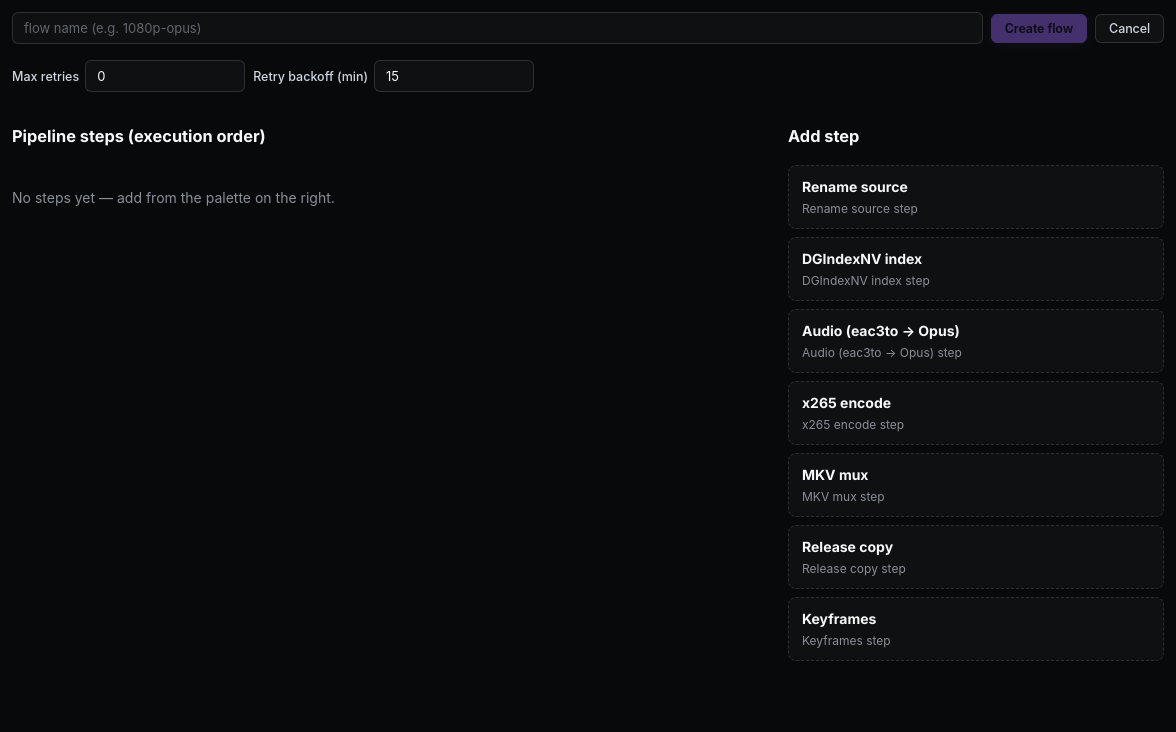
Test: FlowBuilder › blocks save when max retries exceeds 10
In the field with placeholder "flow name (e.g. 1080p-opus)": [497, 28] box [12,12,983,44], type "bad"
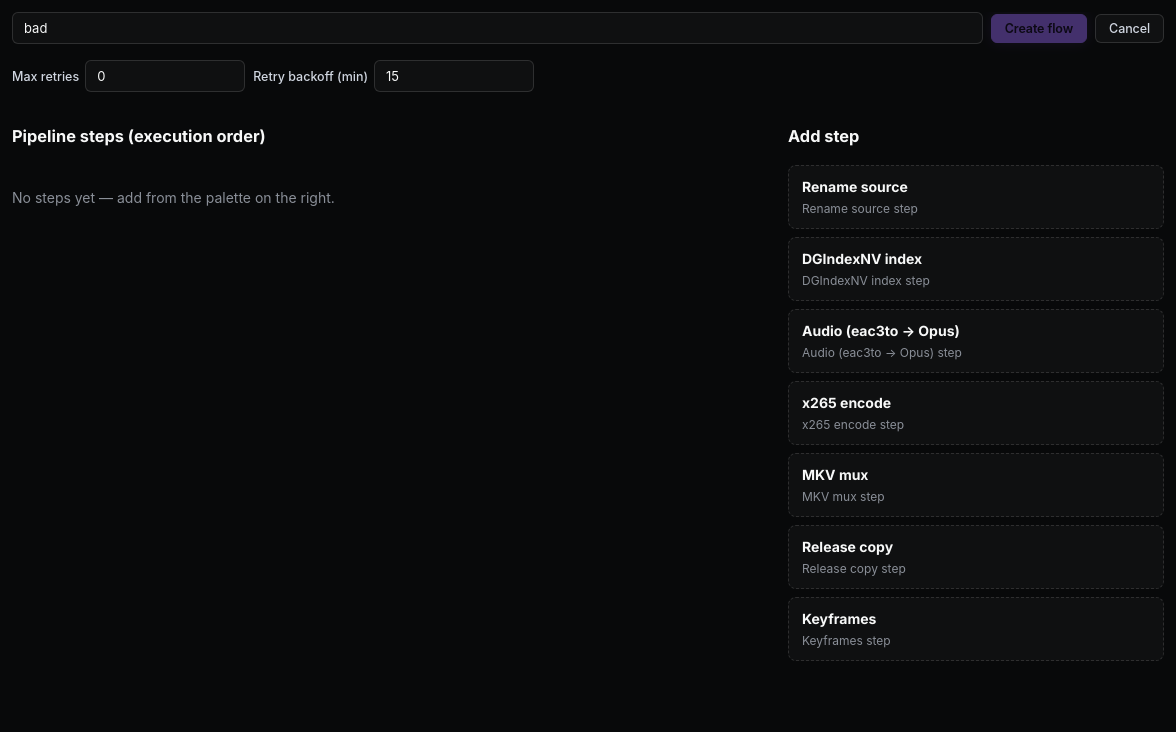
Click the text "DGIndexNV index": [862, 259] box [802,250,922,267]
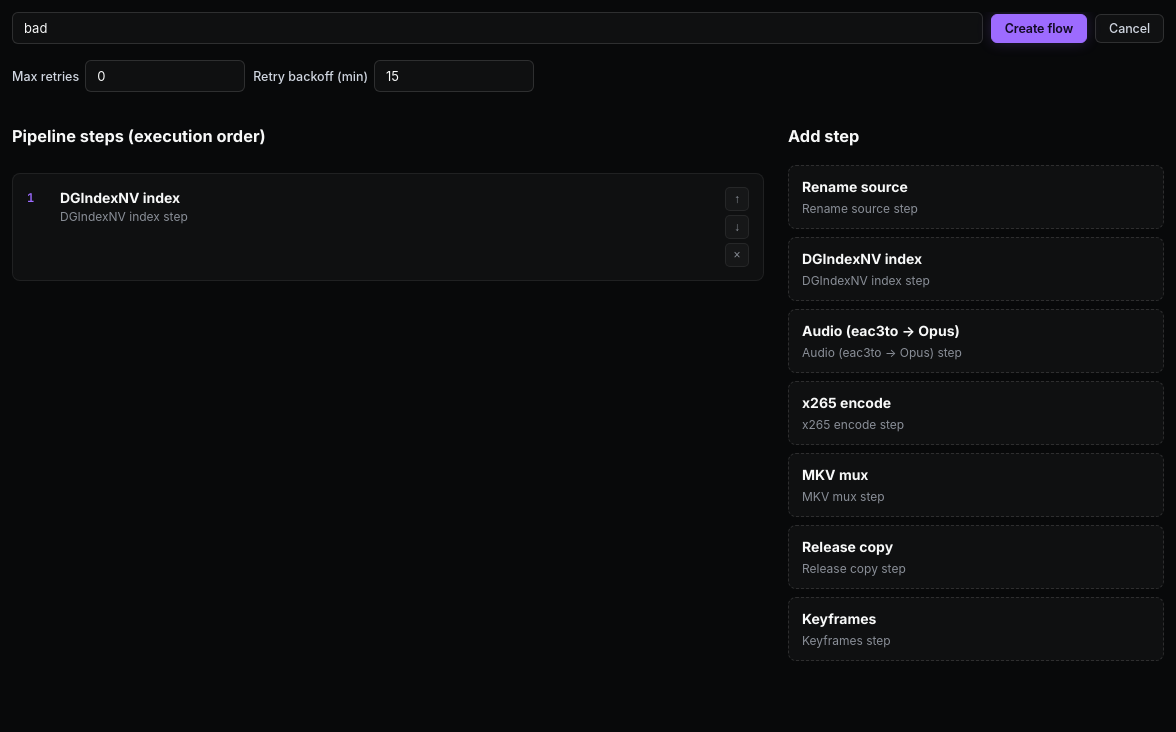
Replace the text in the number field labelled "Max retries" with "11": [165, 76] box [85,60,245,92]
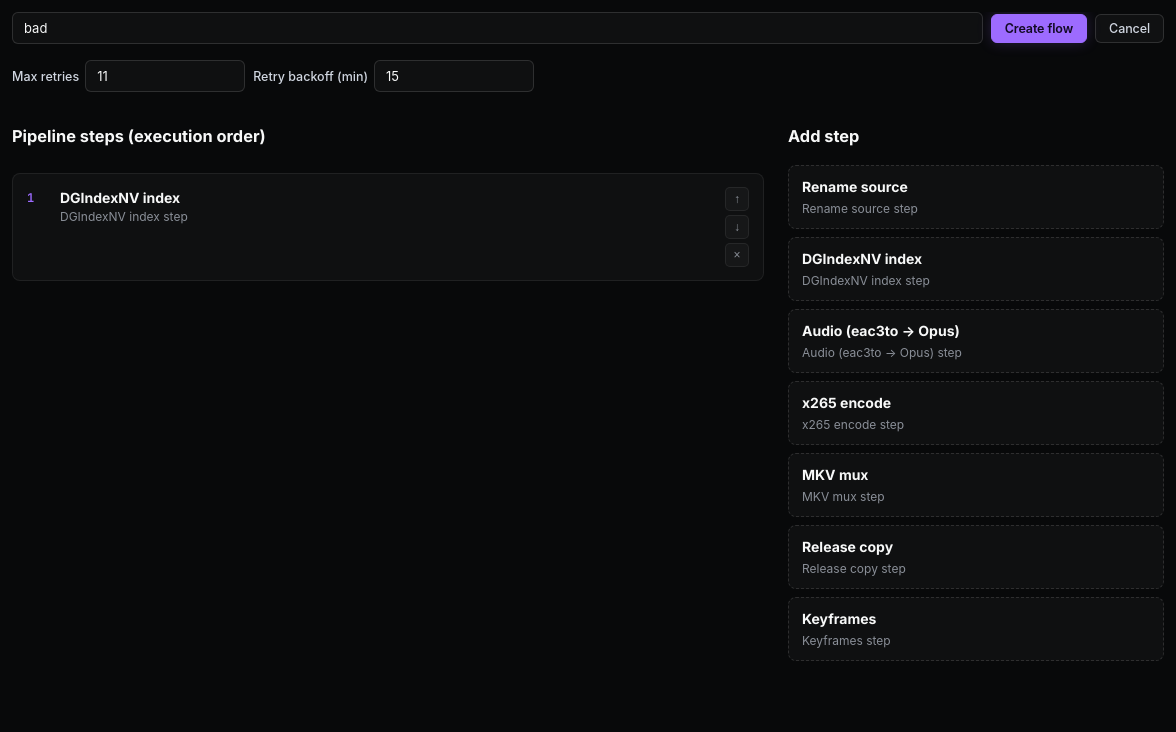
Click the button "Create flow": [1039, 28] box [991,14,1087,42]
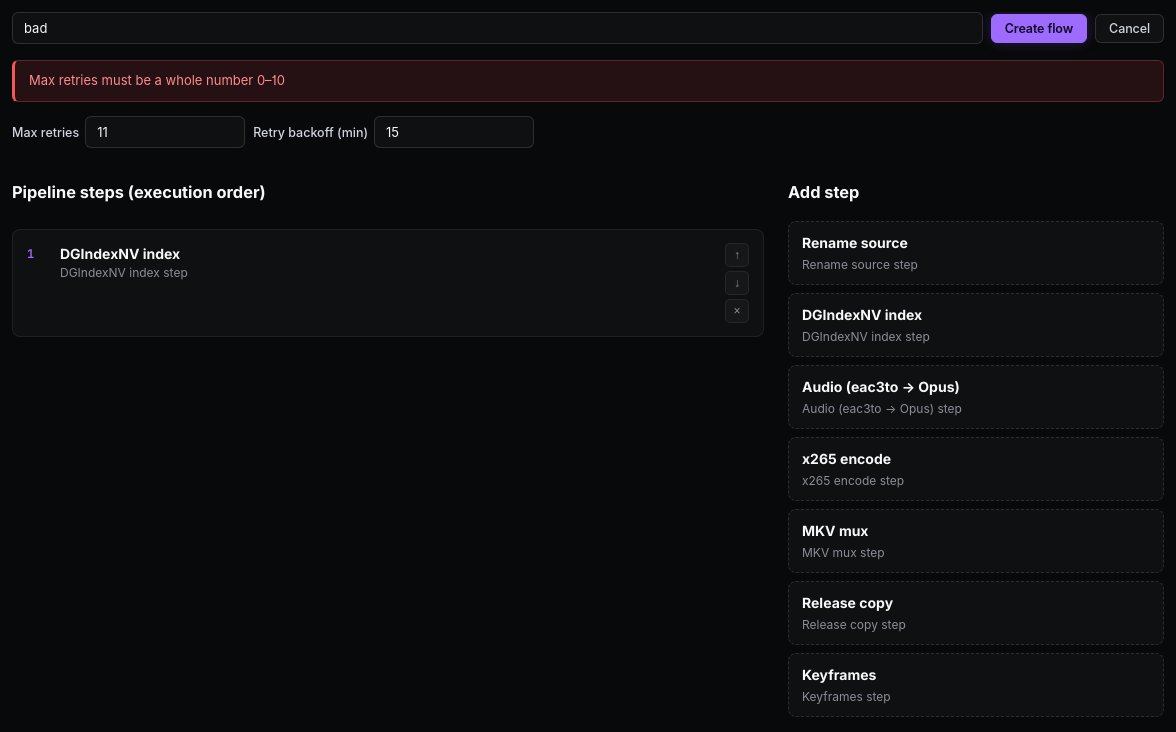
Check: the text "Max retries must be a whole number 0–10" is shown, box [12,60,1164,102]
